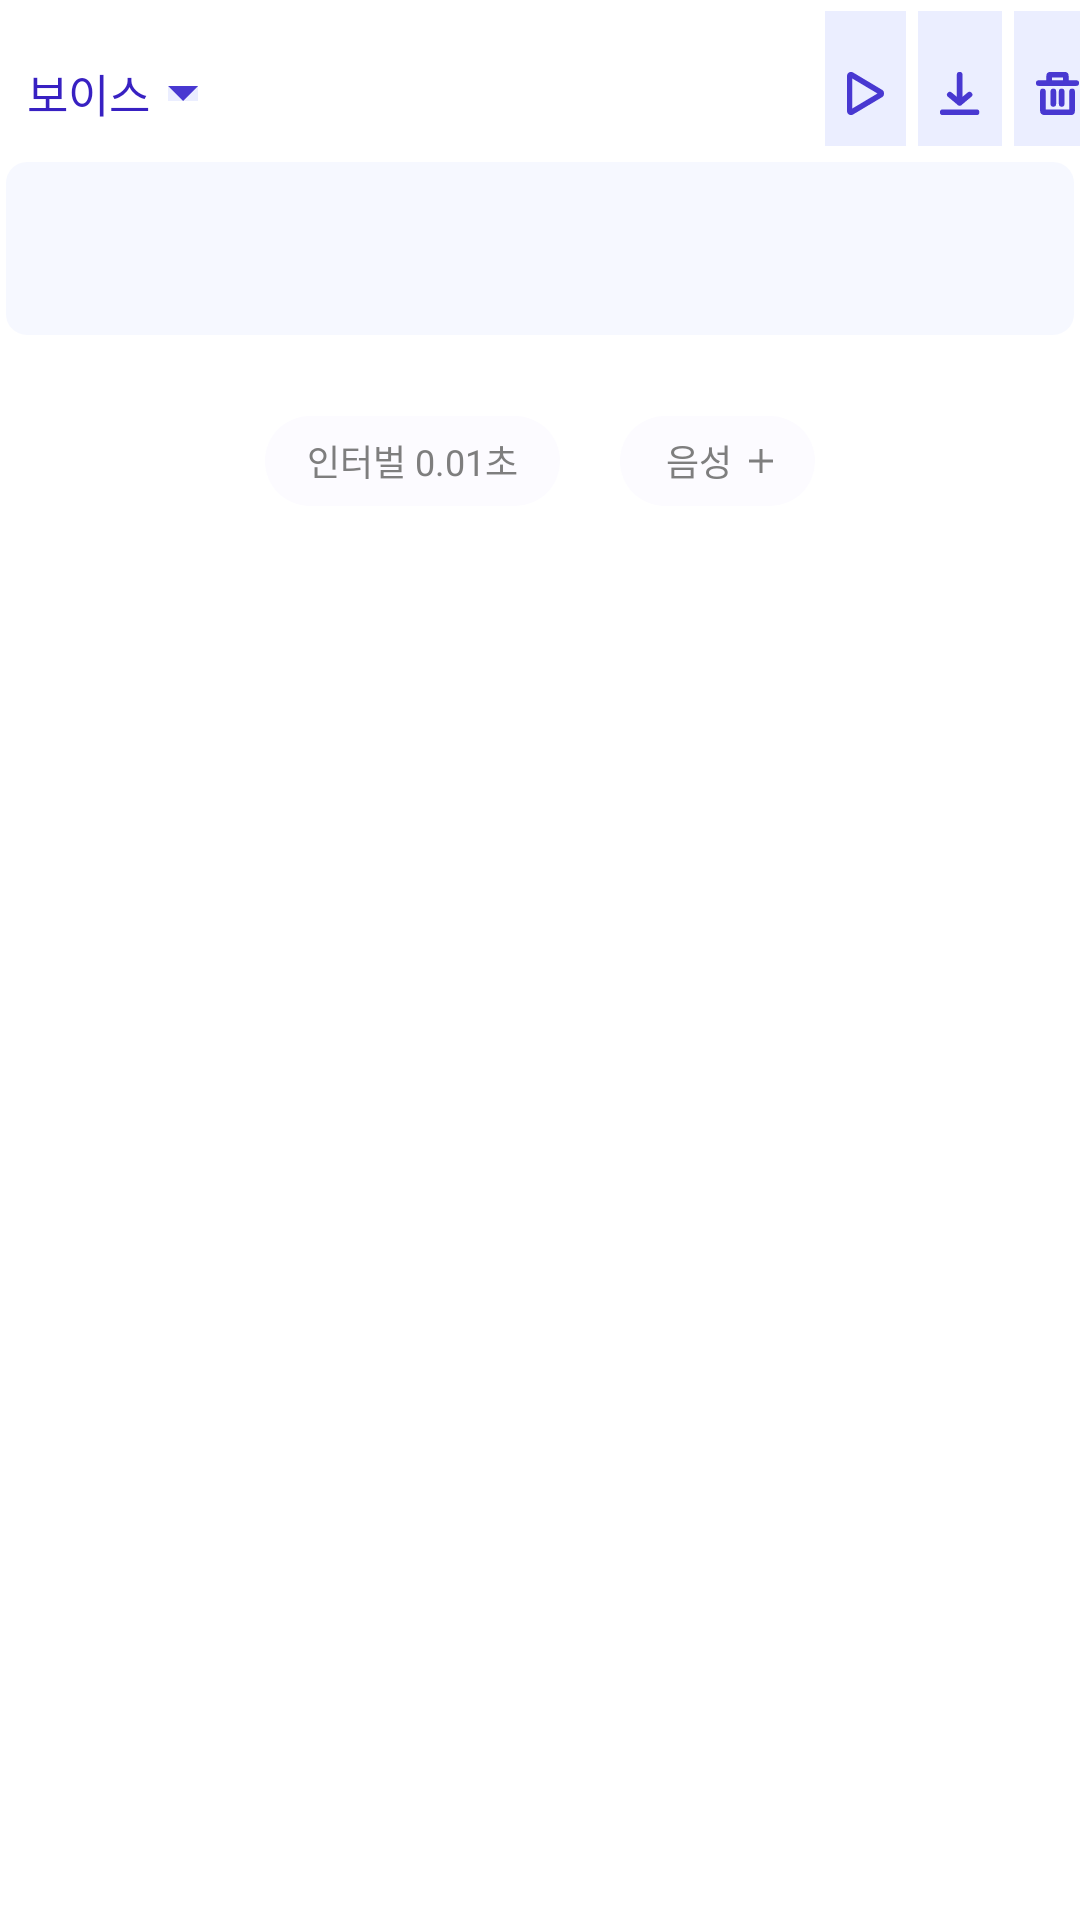

Locate icon controls on the screen. Image size 1080 × 1920, boxes as (x1, y1, x2, y2).
delete: (1036, 72, 1079, 115)
download: (918, 11, 1002, 146)
subplay: (825, 11, 906, 146)
